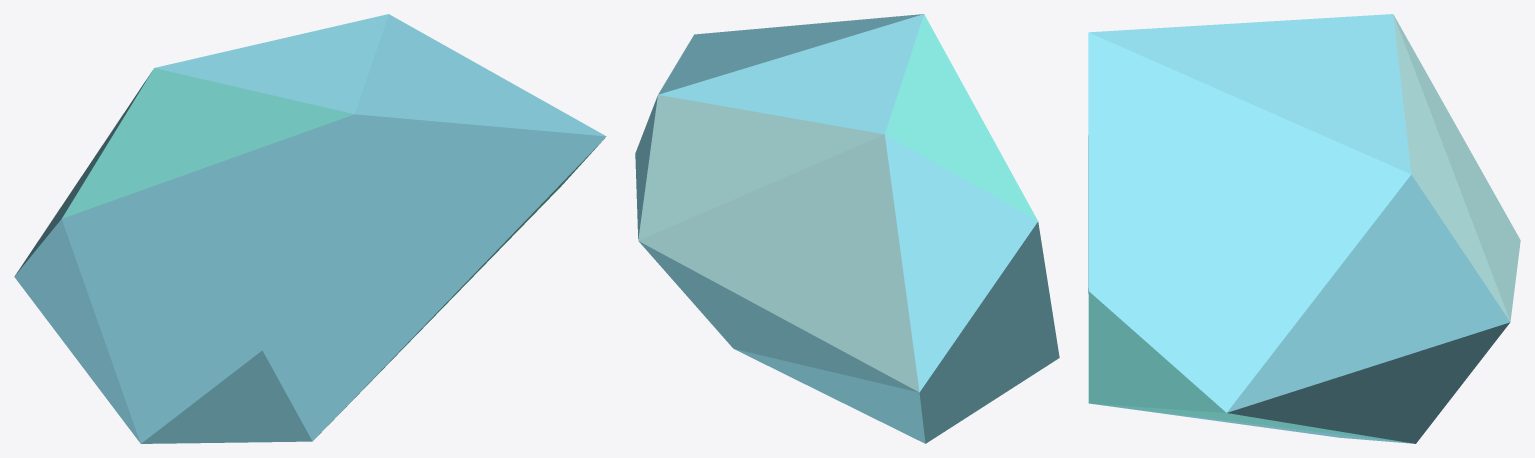
File: winter_cube_5.fbx
3 views of the same model, side by side, from view 1: azimuth 30°, elevation 25°; view 2: azimuth 150°, elevation 25°; view 3: azimuth 270°, elevation 25° (orthographic). The views are drawn at different scales.
Visible parts, largest first — view 1: winter_cube_5; view 2: winter_cube_5; view 3: winter_cube_5.
Part boxes in pixels (bbox=[...]): winter_cube_5: bbox=[14, 14, 606, 443]; winter_cube_5: bbox=[635, 14, 1059, 443]; winter_cube_5: bbox=[1088, 14, 1520, 443].
Size of the model in its own units: 91.55 by 69.42 by 58.19.
